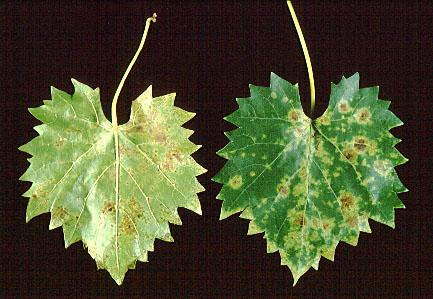grape leaf: (214, 62, 417, 288), (15, 66, 211, 288)
